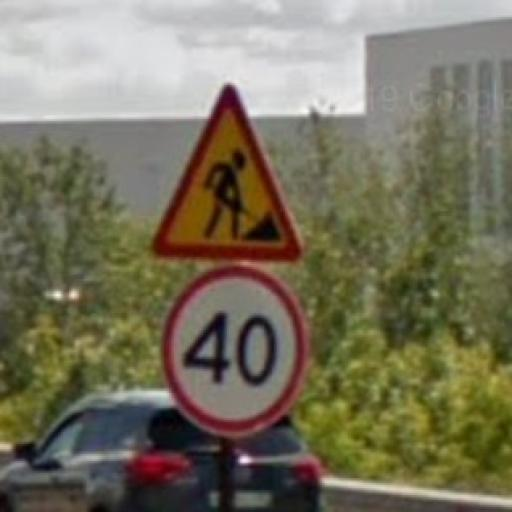traffic_sign: (149, 84, 305, 265), (160, 263, 307, 438)
